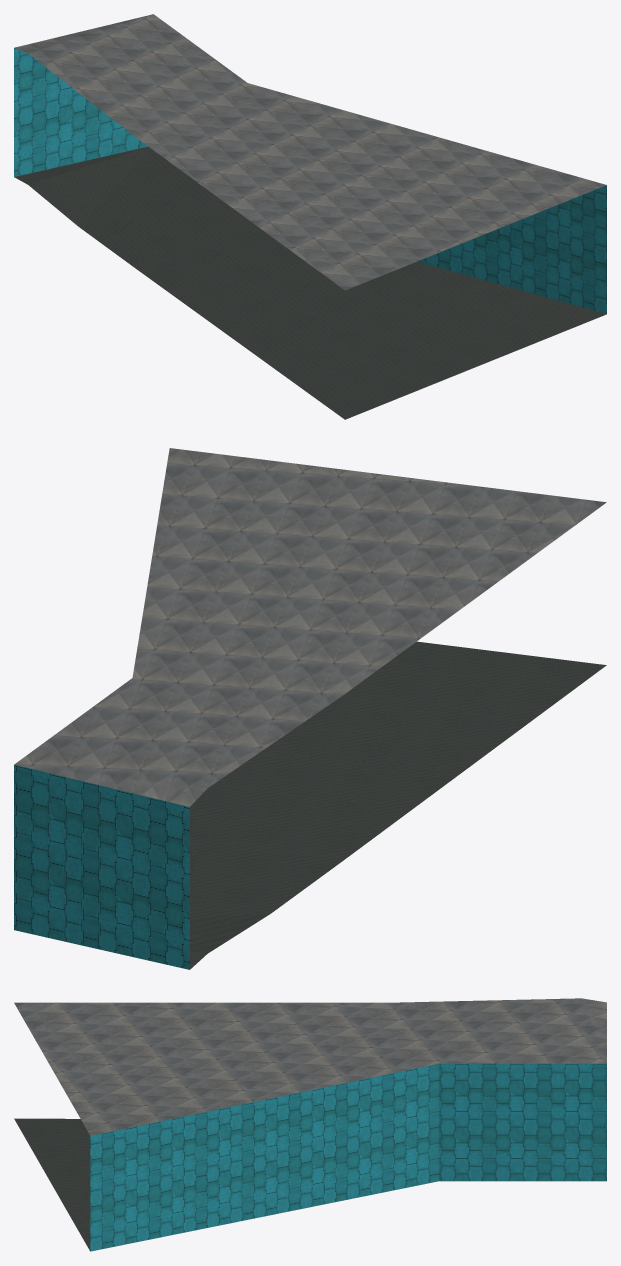
File: east_long5.FBX
The picture shows the model from 3 angles, top to bottom: view 1: azimuth 30°, elevation 25°; view 2: azimuth 150°, elevation 25°; view 3: azimuth 270°, elevation 25°; orthographic projection. The views are drawn at different scales.
Visible parts, largest first — view 1: Object005; view 2: Object005; view 3: Object005.
Boxes of the visible parts, x1,y1,x2,y2 form: Object005: [14, 14, 606, 419]; Object005: [14, 448, 606, 969]; Object005: [14, 998, 606, 1251].
Bounding box in the file's own units: 183 × 78.13 × 344.
